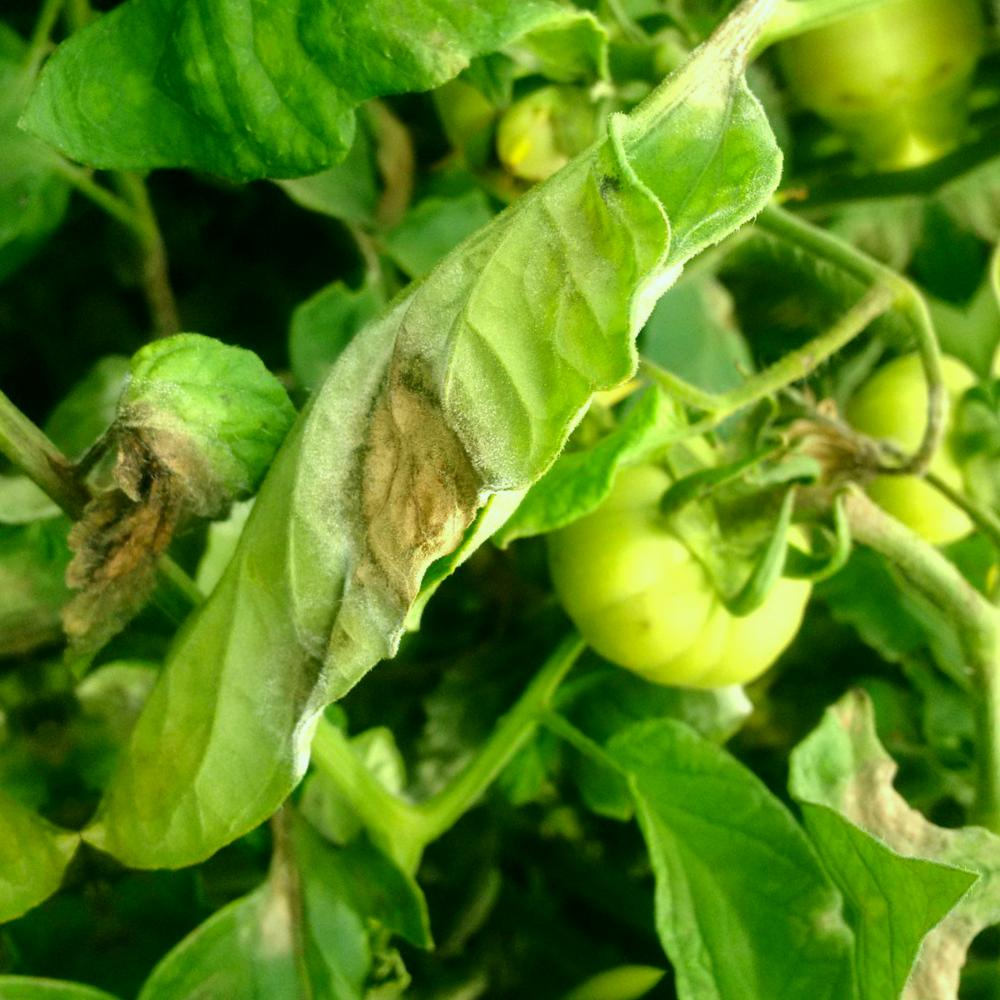Tomato leaf late blight: (0, 0, 997, 921), (0, 292, 356, 688)
